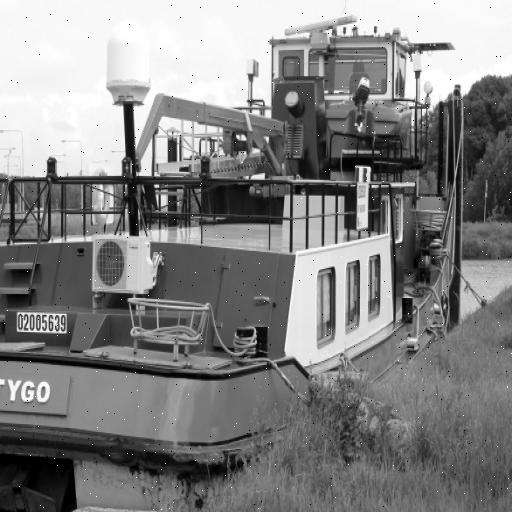tugboat: (1, 1, 473, 512)
